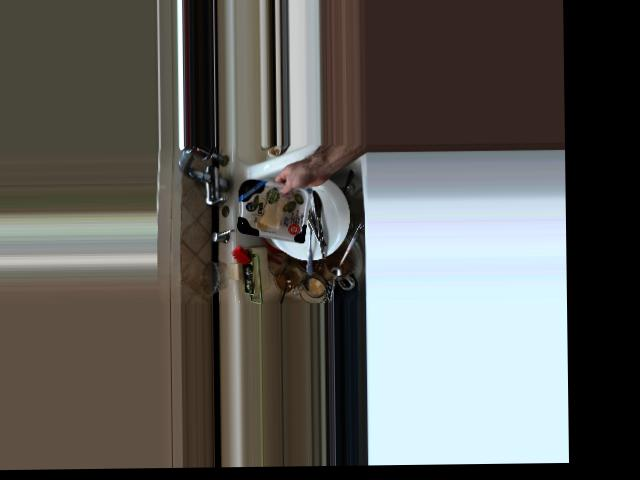cheese: (231, 160, 323, 241)
